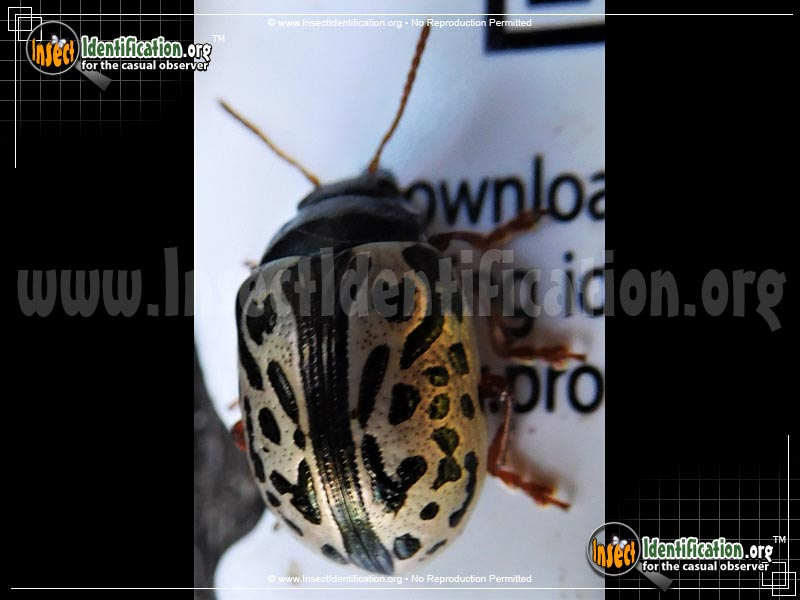Calligrapha Beetle: (201, 28, 607, 580)
